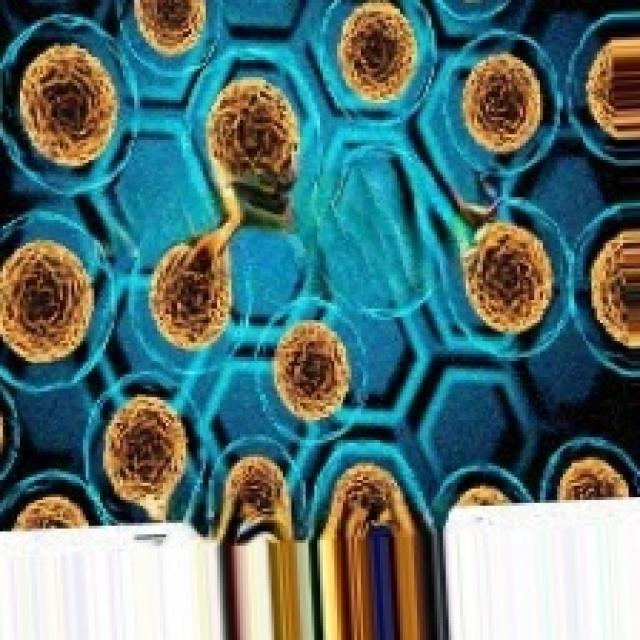Spherical_bacteria: (0, 0, 637, 540)
